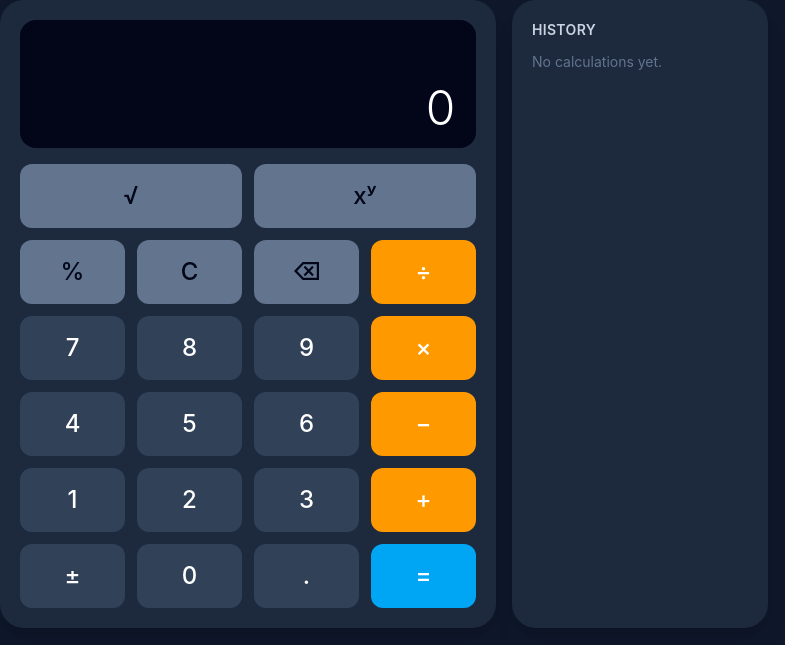
Test: Calculator › adds two numbers through the API
The image size is (785, 645).
Click the button "1" at (72, 500), box left=20, top=468, right=125, bottom=532
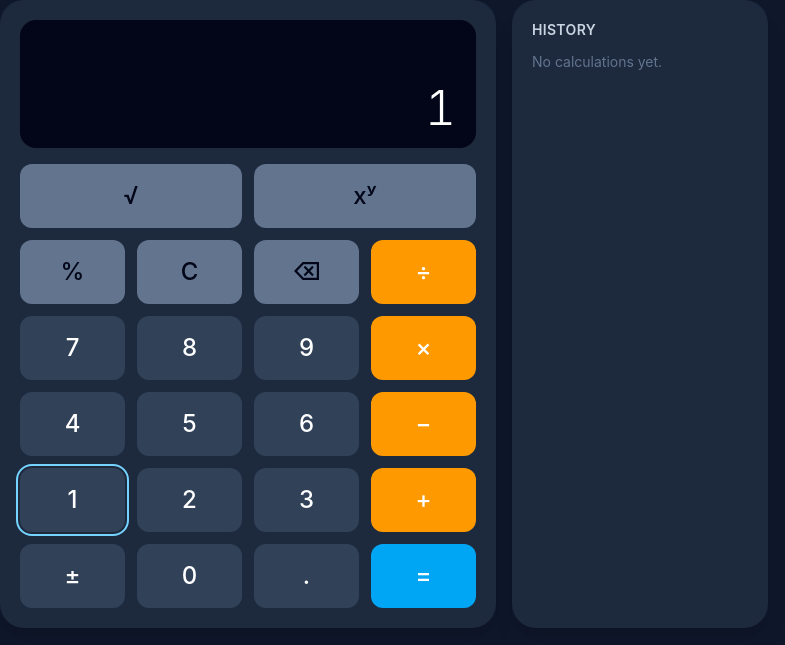
Click the button "2" at (190, 500), box left=137, top=468, right=242, bottom=532
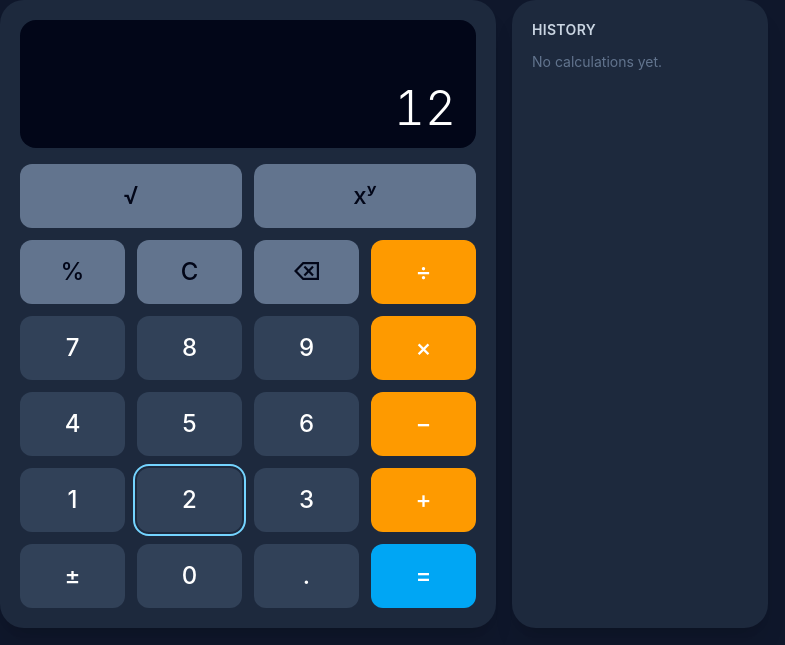
Click the button named "add" at (424, 500), box left=371, top=468, right=476, bottom=532
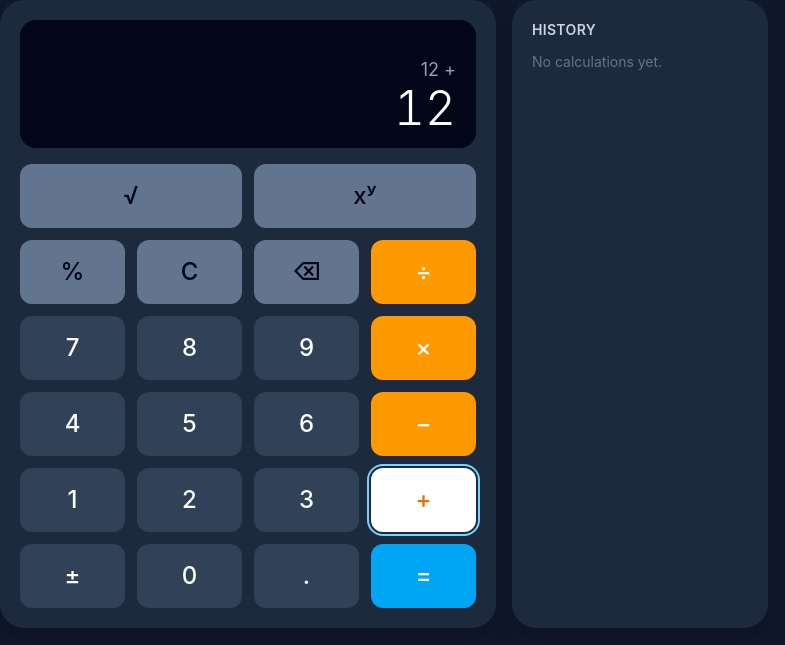
Click the button "3" at (306, 500), box left=254, top=468, right=359, bottom=532
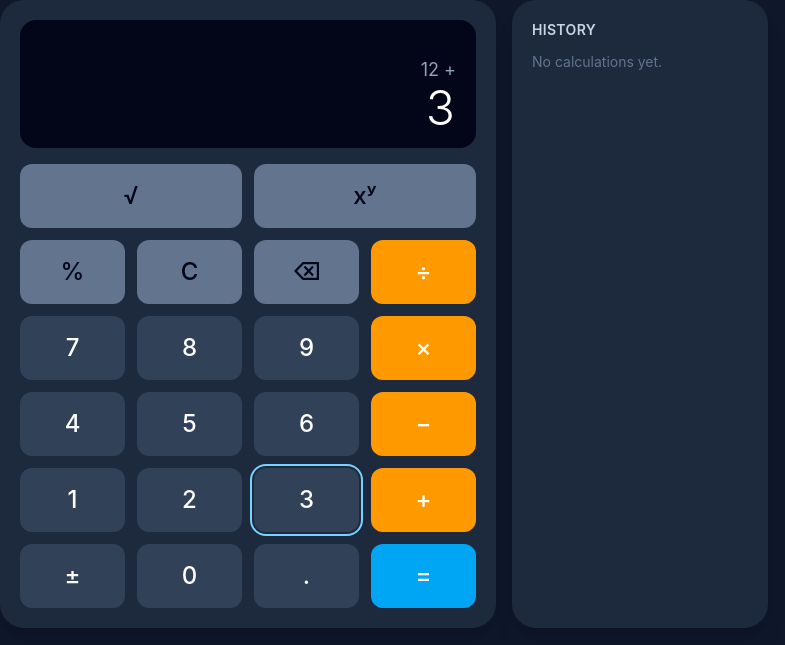
Click the button named "equals" at (424, 576), box left=371, top=544, right=476, bottom=608
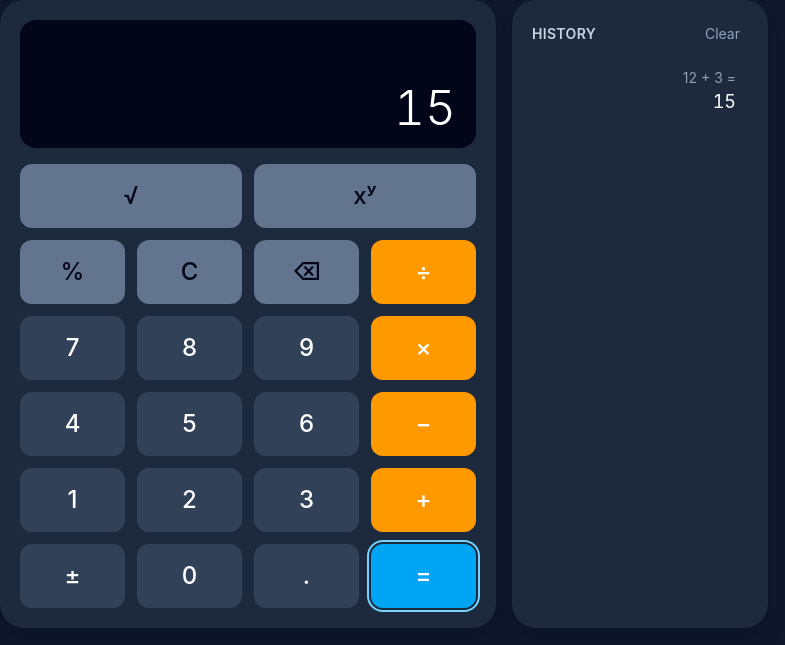
Result: the text named "Result" reads "15" at left=394, top=78, right=456, bottom=137
